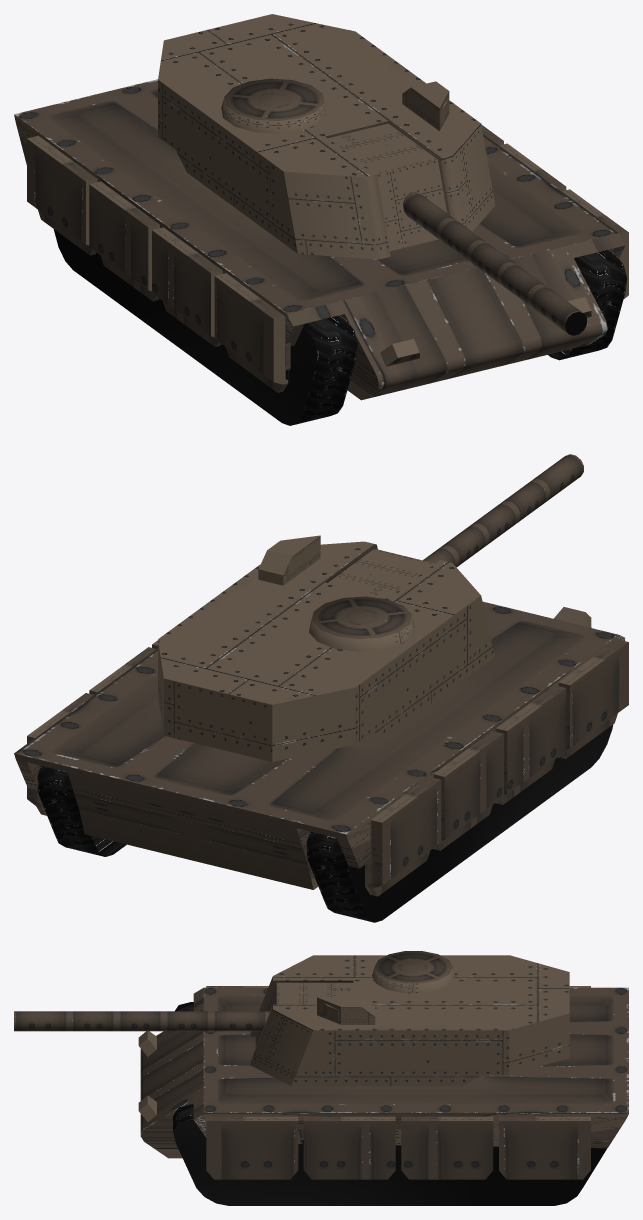
File: Tank_Lvl1.fbx
The picture shows the model from 3 angles, top to bottom: view 1: azimuth 30°, elevation 25°; view 2: azimuth 150°, elevation 25°; view 3: azimuth 270°, elevation 25°; orthographic projection. The views are drawn at different scales.
Parts seen in each view (by area): view 1: Tank_Lvl1; view 2: Tank_Lvl1; view 3: Tank_Lvl1.
Part boxes in pixels (left/top/right/bottom): Tank_Lvl1: left=14, top=14, right=628, bottom=425; Tank_Lvl1: left=14, top=454, right=628, bottom=922; Tank_Lvl1: left=14, top=951, right=628, bottom=1205.
Bounding box in the file's own units: 4.47 × 1.38 × 2.32.
